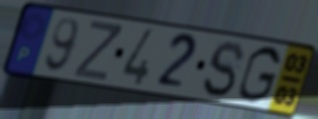2: (152, 31, 201, 96)
4: (119, 27, 156, 89)
9: (44, 17, 82, 74)
G: (235, 44, 283, 106)
S: (200, 39, 247, 100)
Z: (71, 18, 125, 83)
